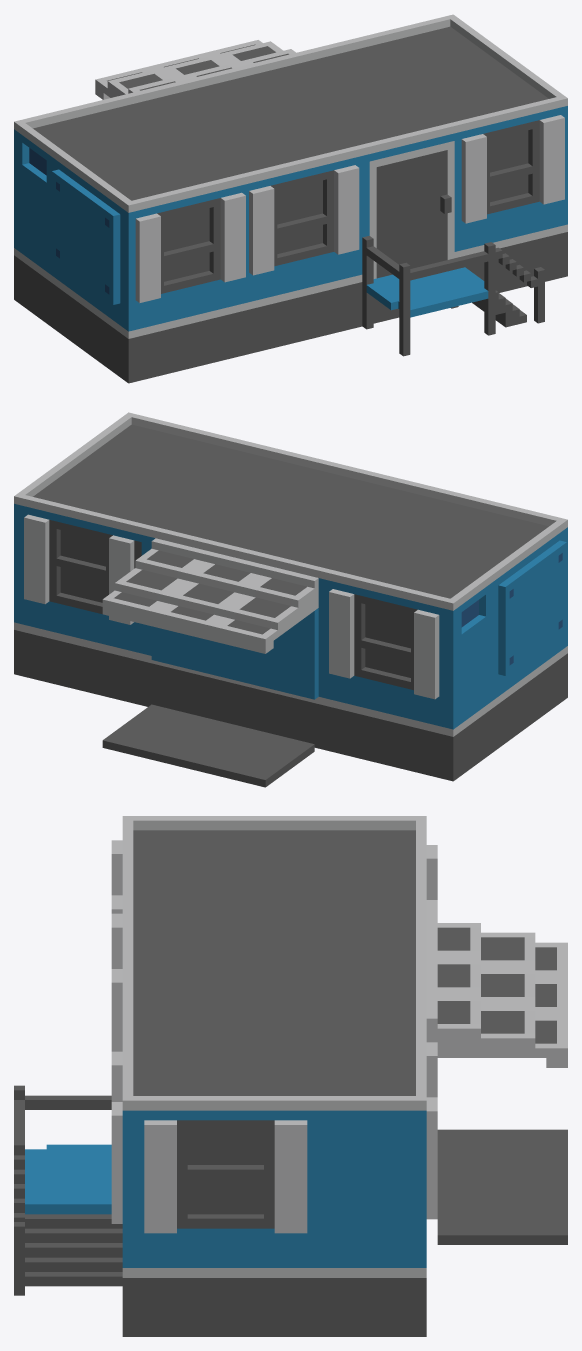
Rendered from bld_house6c.obj.
The picture shows the model from 3 angles, top to bottom: view 1: azimuth 30°, elevation 25°; view 2: azimuth 150°, elevation 25°; view 3: azimuth 270°, elevation 25°; orthographic projection. The views are drawn at different scales.
Bounding box in the file's own units: 64 × 24 × 51.
